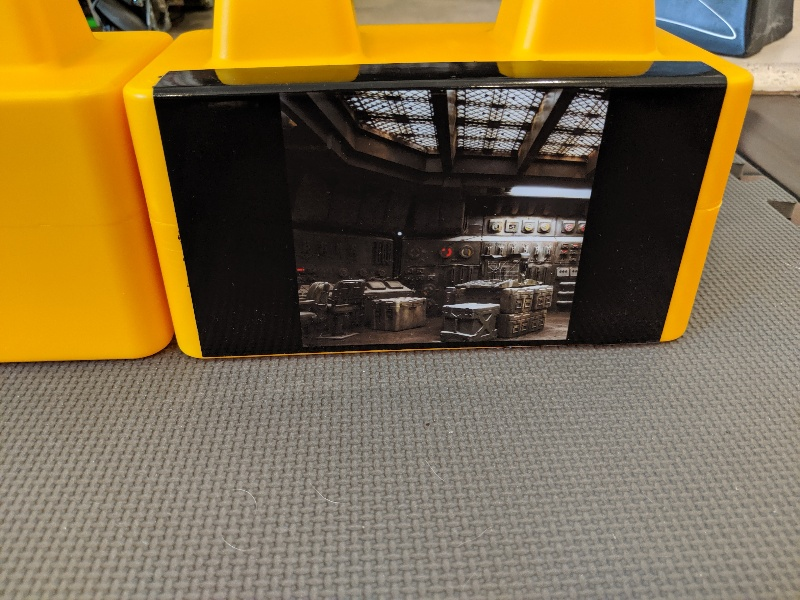Skystone: (140, 54, 735, 367)
